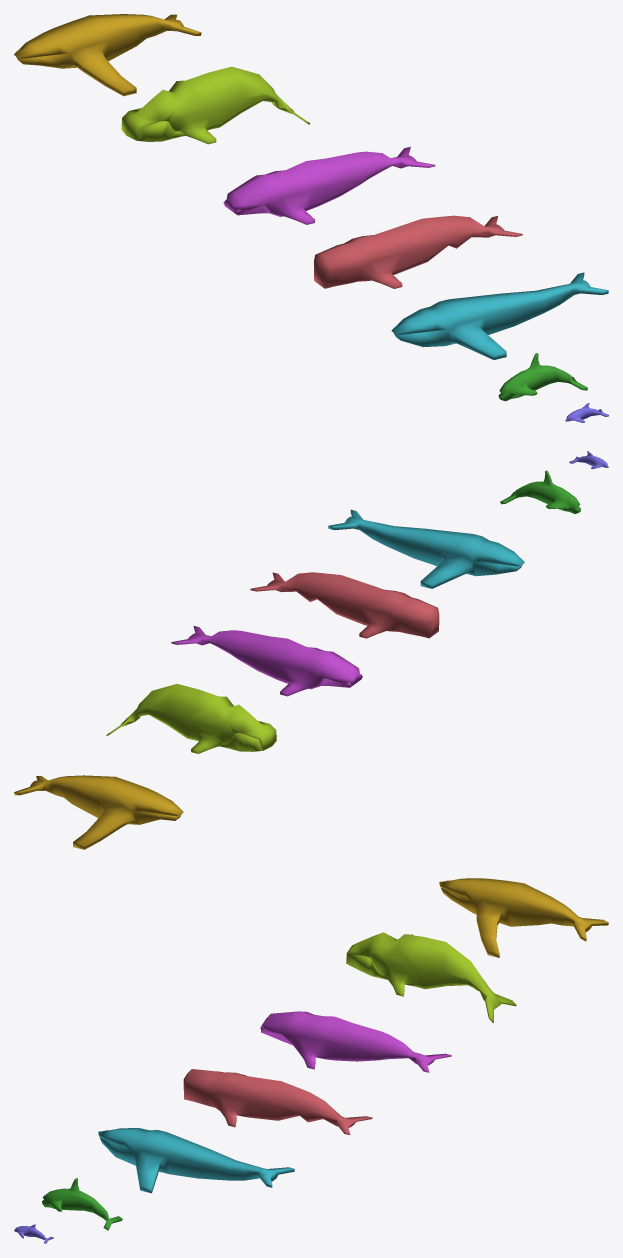
File: SeaAnimals.glb
The picture shows the model from 3 angles, top to bottom: view 1: azimuth 30°, elevation 25°; view 2: azimuth 150°, elevation 25°; view 3: azimuth 330°, elevation 25°; orthographic projection. The views are drawn at different scales.
Parts seen in each view (by area): view 1: BowHead Whale, Sperm Whale, Blue Whale, Grey Whale, Humpback Whale, Killer Whale; view 2: BowHead Whale, Sperm Whale, Blue Whale, Grey Whale, Humpback Whale, Killer Whale; view 3: BowHead Whale, Sperm Whale, Blue Whale, Humpback Whale, Grey Whale, Killer Whale.
Boxes of the visible parts, x1,y1,x2,y2 form: BowHead Whale: [121, 66, 310, 144]; Sperm Whale: [314, 215, 522, 288]; Blue Whale: [391, 272, 608, 359]; Grey Whale: [223, 146, 435, 224]; Humpback Whale: [14, 14, 201, 96]; Killer Whale: [498, 353, 587, 401]; BowHead Whale: [106, 684, 276, 753]; Sperm Whale: [250, 572, 439, 638]; Blue Whale: [328, 509, 524, 588]; Grey Whale: [171, 626, 362, 696]; Humpback Whale: [14, 775, 183, 849]; Killer Whale: [500, 470, 580, 513]; BowHead Whale: [346, 932, 516, 1022]; Sperm Whale: [183, 1069, 372, 1134]; Blue Whale: [98, 1128, 294, 1193]; Humpback Whale: [439, 878, 608, 957]; Grey Whale: [260, 1011, 451, 1072]; Killer Whale: [42, 1178, 122, 1230].
Size of the model in its own units: 24.33 by 8.93 by 112.
